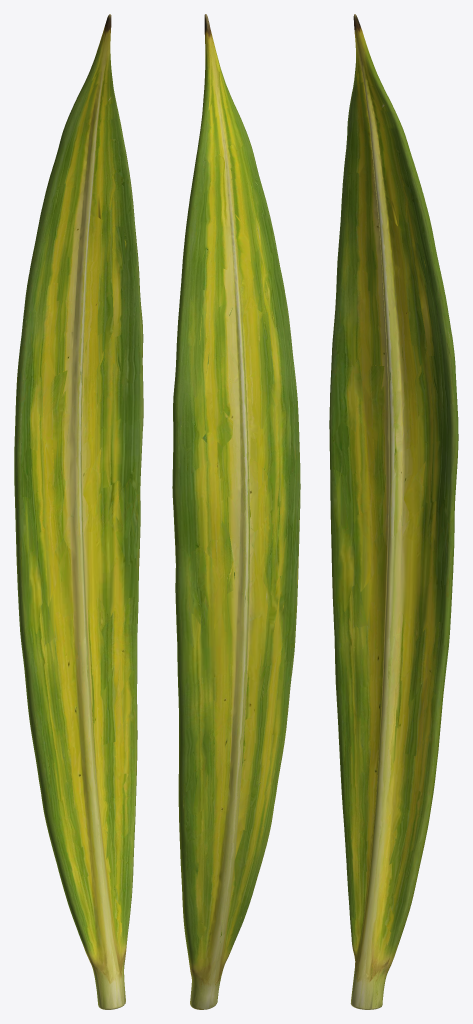
The model's file is sugarcane_yellow_leaf.glb.
The picture shows the model from 3 angles, left to right: view 1: azimuth 30°, elevation 25°; view 2: azimuth 210°, elevation 25°; view 3: azimuth 330°, elevation 25°; orthographic projection.
Visible parts, largest first — view 1: sugarcane_yellow_leaf; view 2: sugarcane_yellow_leaf; view 3: sugarcane_yellow_leaf.
Boxes of the visible parts, box(x1,y1,x2,y2) form: sugarcane_yellow_leaf: box(14, 14, 143, 1009); sugarcane_yellow_leaf: box(172, 14, 300, 1009); sugarcane_yellow_leaf: box(329, 14, 458, 1009).
Size of the model in its own units: 0.1339 by 1 by 0.0883.
Materials: 1 (1 with a texture image).
